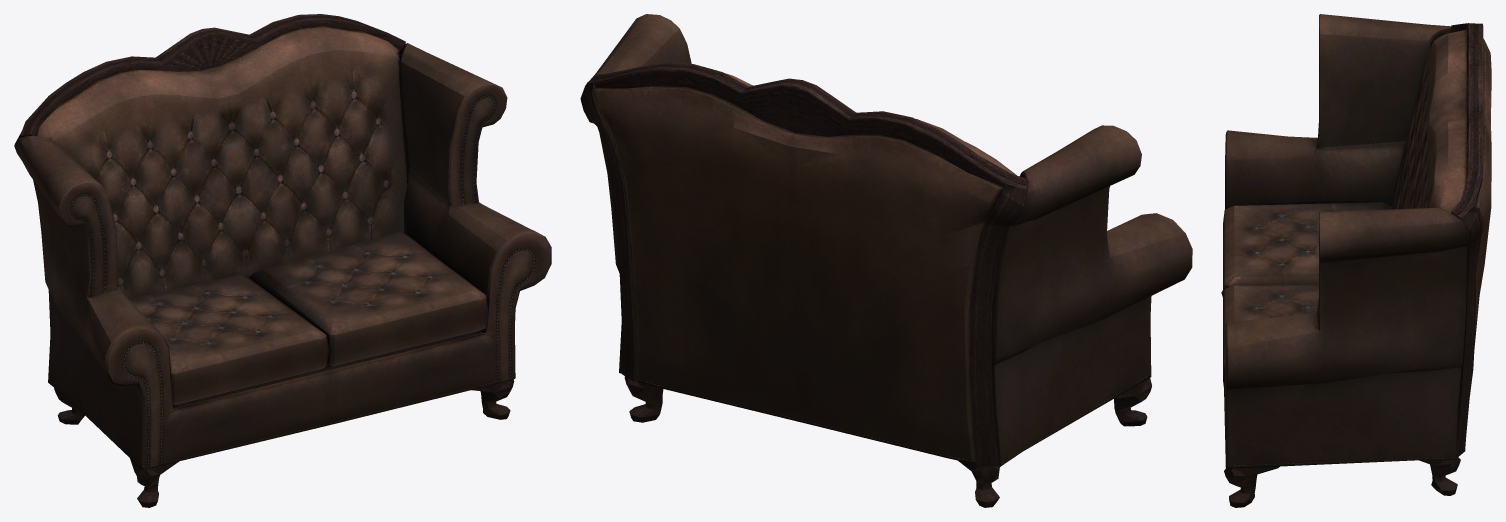
The model's file is arm-chair.obj.
The picture shows the model from 3 angles, left to right: view 1: azimuth 30°, elevation 25°; view 2: azimuth 150°, elevation 25°; view 3: azimuth 270°, elevation 25°; orthographic projection. The views are drawn at different scales.
Parts seen in each view (by area): view 1: Arm_Chair; view 2: Arm_Chair; view 3: Arm_Chair.
Boxes of the visible parts, x1,y1,x2,y2 form: Arm_Chair: (14,14,551,507); Arm_Chair: (580,14,1192,507); Arm_Chair: (1221,14,1491,507).
Bounding box in the file's own units: 3.23 × 2.36 × 1.67.
1 material, 1 textured.
